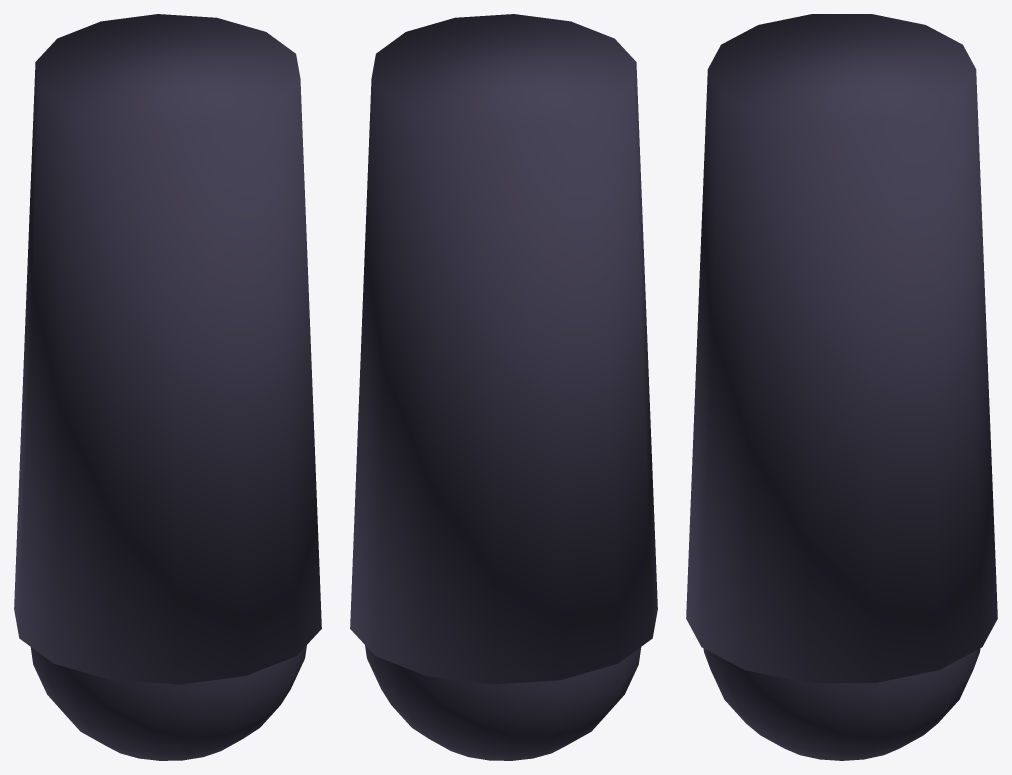
Rendered from fig_thigh.glb.
The picture shows the model from 3 angles, left to right: view 1: azimuth 30°, elevation 25°; view 2: azimuth 150°, elevation 25°; view 3: azimuth 270°, elevation 25°; orthographic projection.
Visible parts, largest first — view 1: trouser_thigh, trouser_knee; view 2: trouser_thigh, trouser_knee; view 3: trouser_thigh, trouser_knee.
Boxes of the visible parts, x1,y1,x2,y2 form: trouser_thigh: (14,14,321,684); trouser_knee: (30,645,306,760); trouser_thigh: (350,14,657,684); trouser_knee: (365,645,641,760); trouser_thigh: (686,14,997,682); trouser_knee: (703,648,980,760).
Bounding box in the file's own units: 0.1404 × 0.346 × 0.144.
